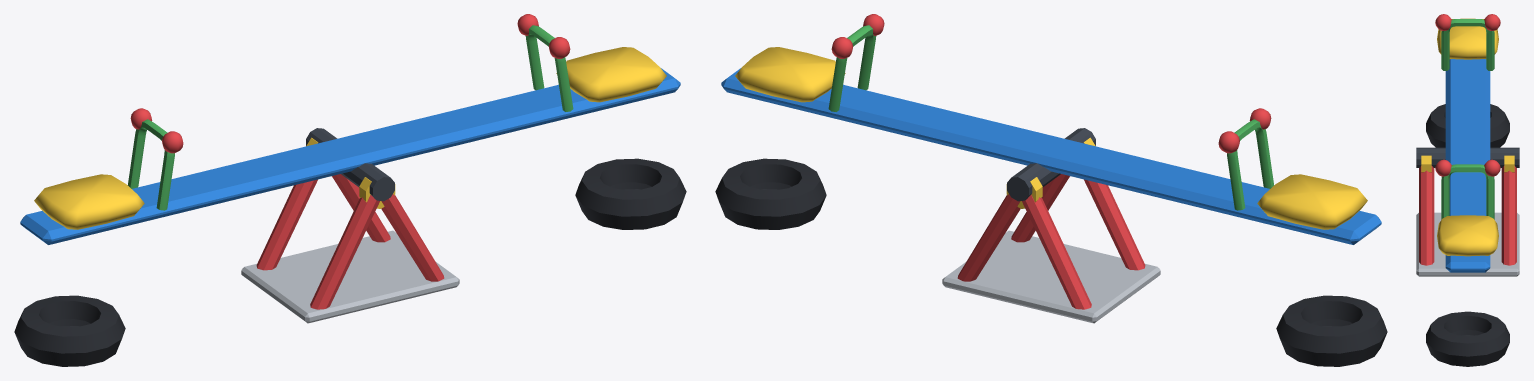
Rendered from gangorra_praca.glb.
3 views of the same model, side by side, from view 1: azimuth 30°, elevation 25°; view 2: azimuth 150°, elevation 25°; view 3: azimuth 270°, elevation 25° (orthographic). The views are drawn at different scales.
Visible parts, largest first — view 1: gangorra, gangorra_praca; view 2: gangorra, gangorra_praca; view 3: gangorra, gangorra_praca.
Part boxes in pixels (x1=…): gangorra: x1=20, y1=14, x2=680, y2=244; gangorra_praca: x1=14, y1=137, x2=686, y2=366; gangorra: x1=721, y1=14, x2=1381, y2=244; gangorra_praca: x1=715, y1=137, x2=1387, y2=366; gangorra: x1=1416, y1=14, x2=1519, y2=272; gangorra_praca: x1=1416, y1=104, x2=1519, y2=366.
Size of the model in its own units: 3.4 by 1.03 by 0.6.
1 material, 1 textured.
